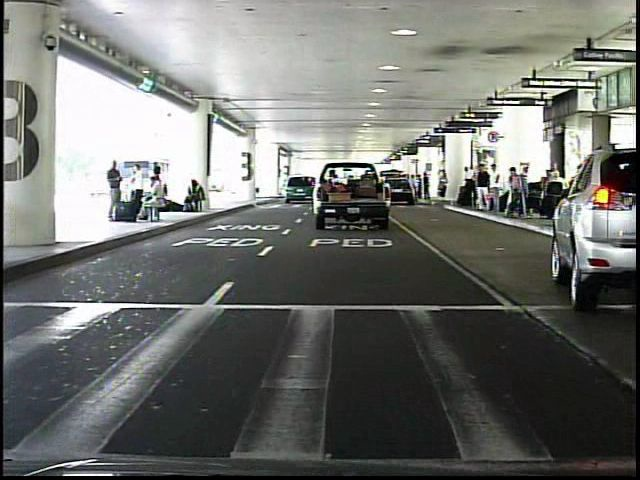person: (106, 158, 130, 227), (472, 162, 492, 217), (458, 163, 477, 209), (488, 162, 504, 216), (437, 167, 452, 205), (414, 170, 425, 203), (422, 170, 433, 202)
